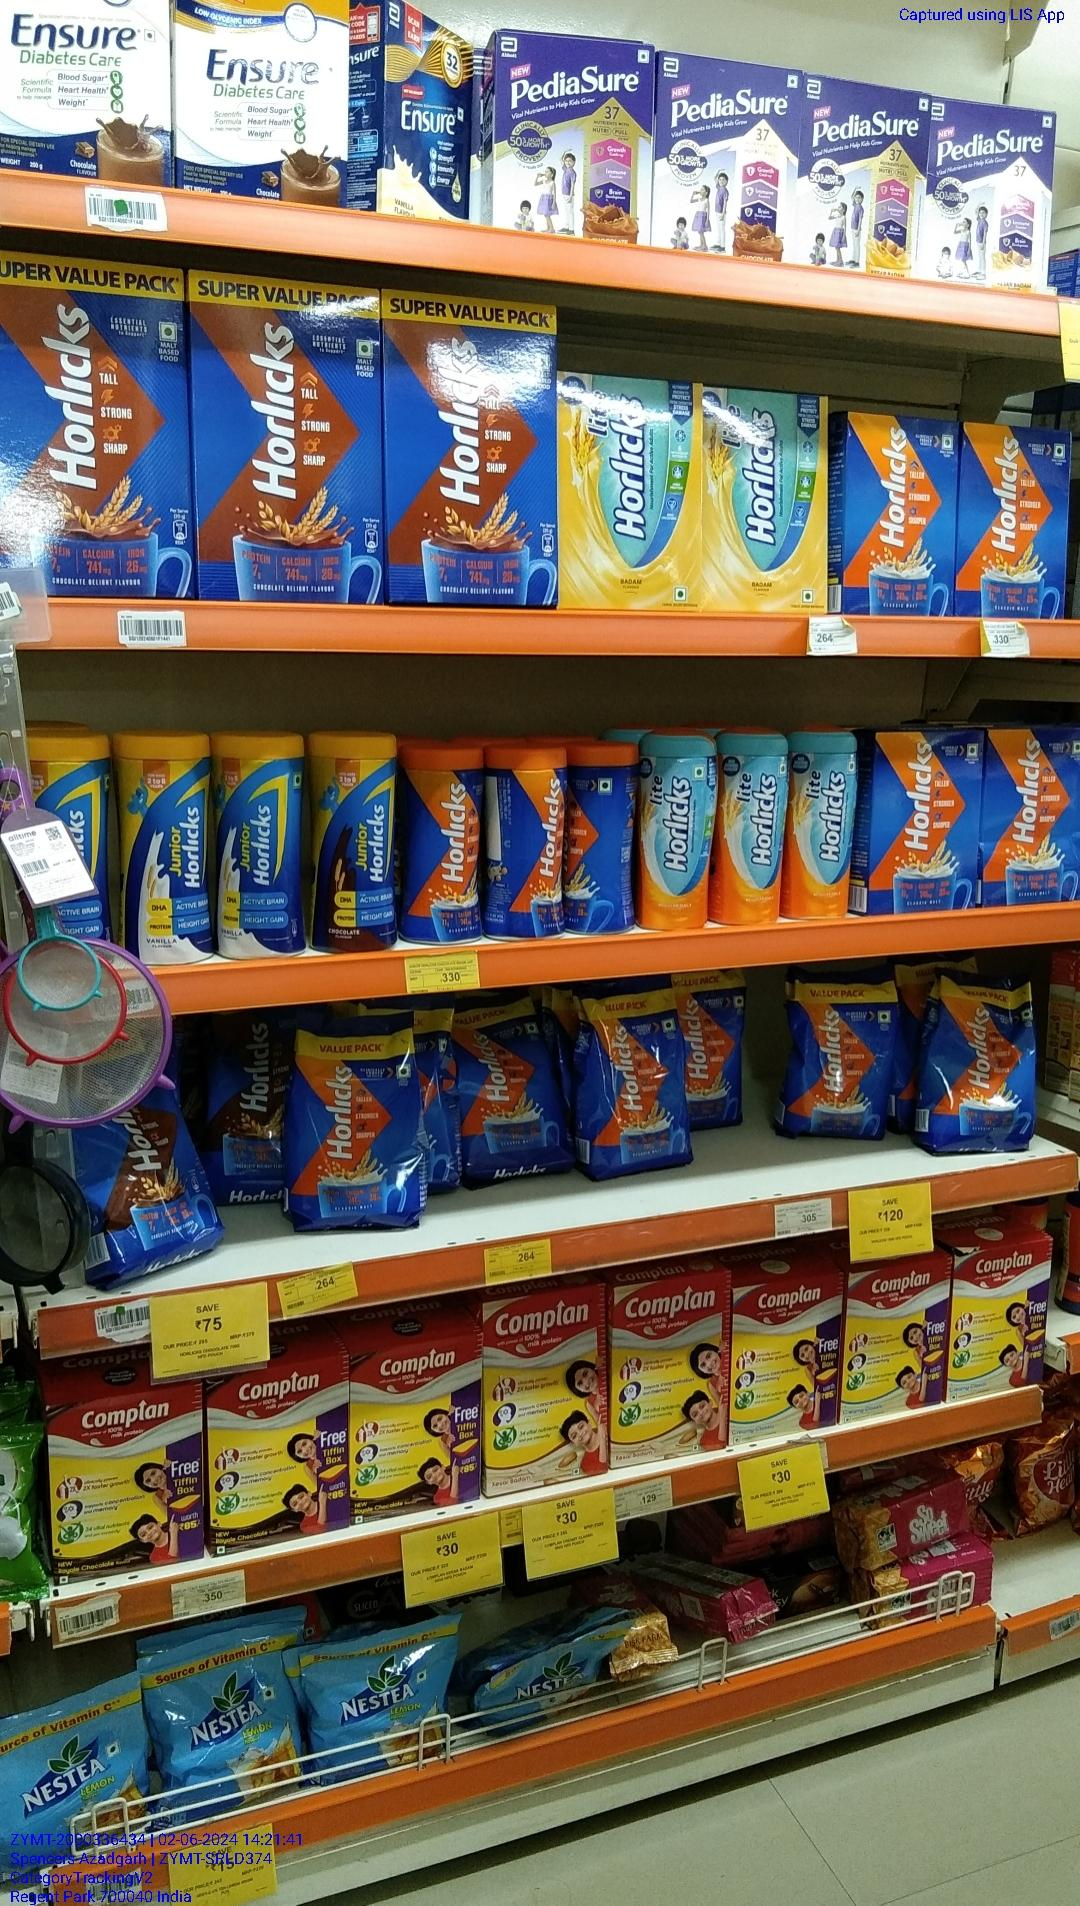HORLICKS_JUNIOR_VANILLA_500_GM_JAR: (207, 740, 308, 969), (123, 728, 216, 961)
HORLICKS_LITE_REGULAR_MALT_500_GM_JAR: (640, 728, 717, 940), (717, 733, 792, 926), (789, 727, 852, 927)
PEDIASURE_CHOCOLATE_500_G_PACK: (492, 41, 653, 243), (660, 54, 800, 268)
PEDIASURE_VANILLA_500_G_PACK: (802, 94, 919, 276)
